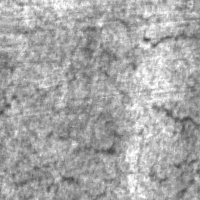crazing: (5, 118, 138, 199), (62, 10, 199, 79), (137, 100, 199, 199)
